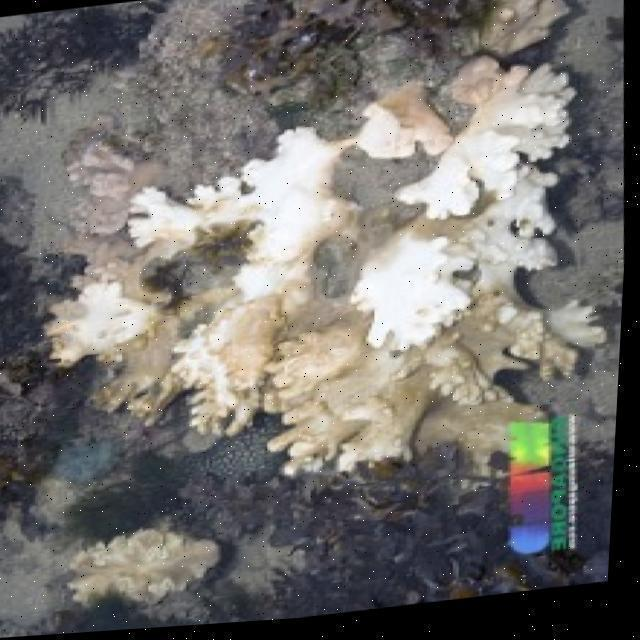Bleached Coral: (3, 68, 615, 508)
